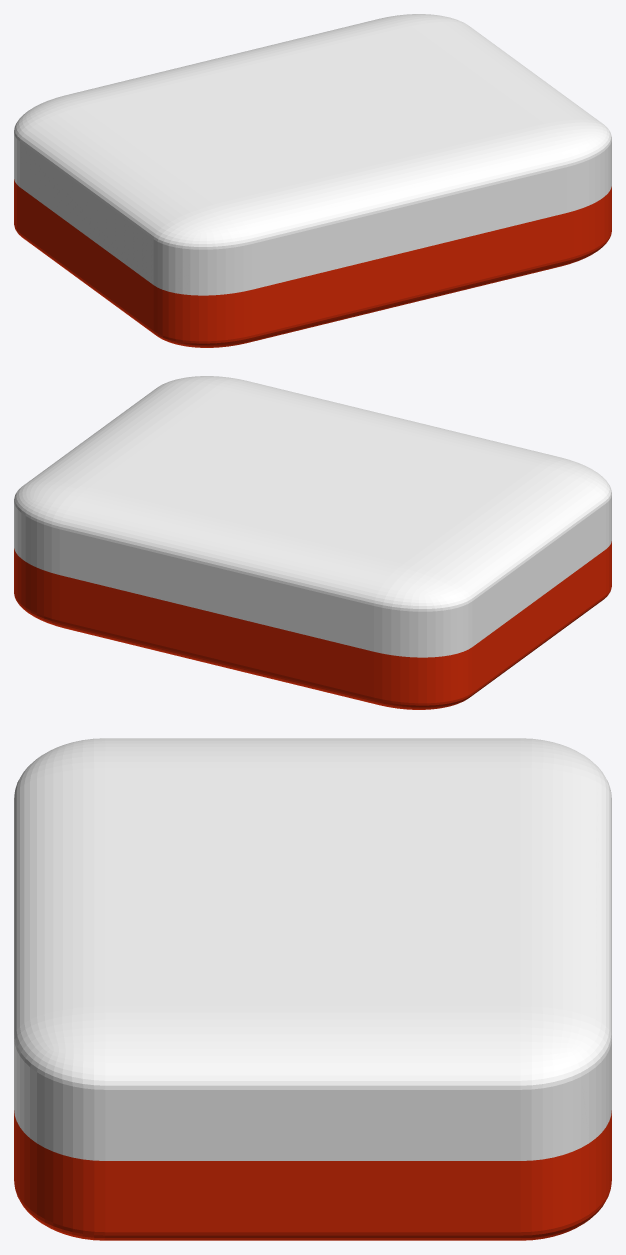
File: tile.glb
3 renders of one model, top to bottom at view 1: azimuth 30°, elevation 25°; view 2: azimuth 150°, elevation 25°; view 3: azimuth 270°, elevation 25°, orthographic. The views are drawn at different scales.
Visible parts, largest first — view 1: tile; view 2: tile; view 3: tile.
Boxes of the visible parts, x1,y1,x2,y2 form: tile: (14,14,611,347); tile: (14,376,611,709); tile: (14,738,611,1240).
Size of the model in its own units: 0.1125 by 0.0313 by 0.0829.
